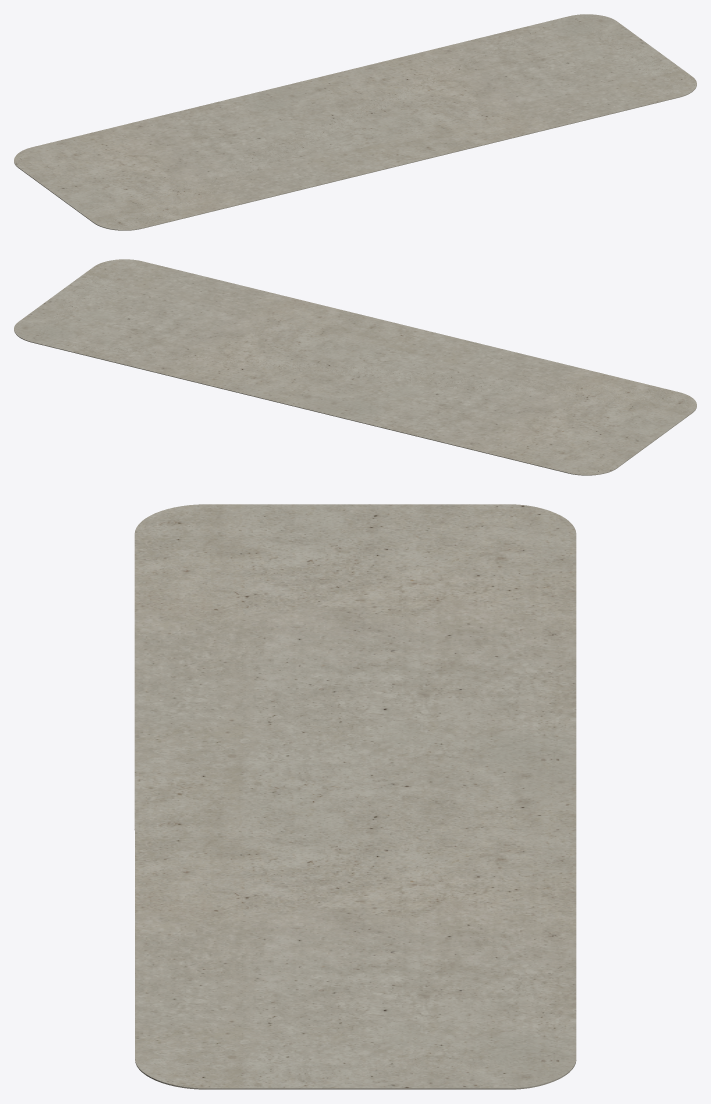
Rendered from Ground05.FBX.
The picture shows the model from 3 angles, top to bottom: view 1: azimuth 30°, elevation 25°; view 2: azimuth 150°, elevation 25°; view 3: azimuth 270°, elevation 25°; orthographic projection. The views are drawn at different scales.
Parts seen in each view (by area): view 1: Object004; view 2: Object004; view 3: Object004.
Boxes of the visible parts, x1,y1,x2,y2 form: Object004: (14, 14, 696, 230); Object004: (14, 259, 696, 475); Object004: (134, 504, 576, 1089).
Bounding box in the file's own units: 194 × 0.2 × 62.
